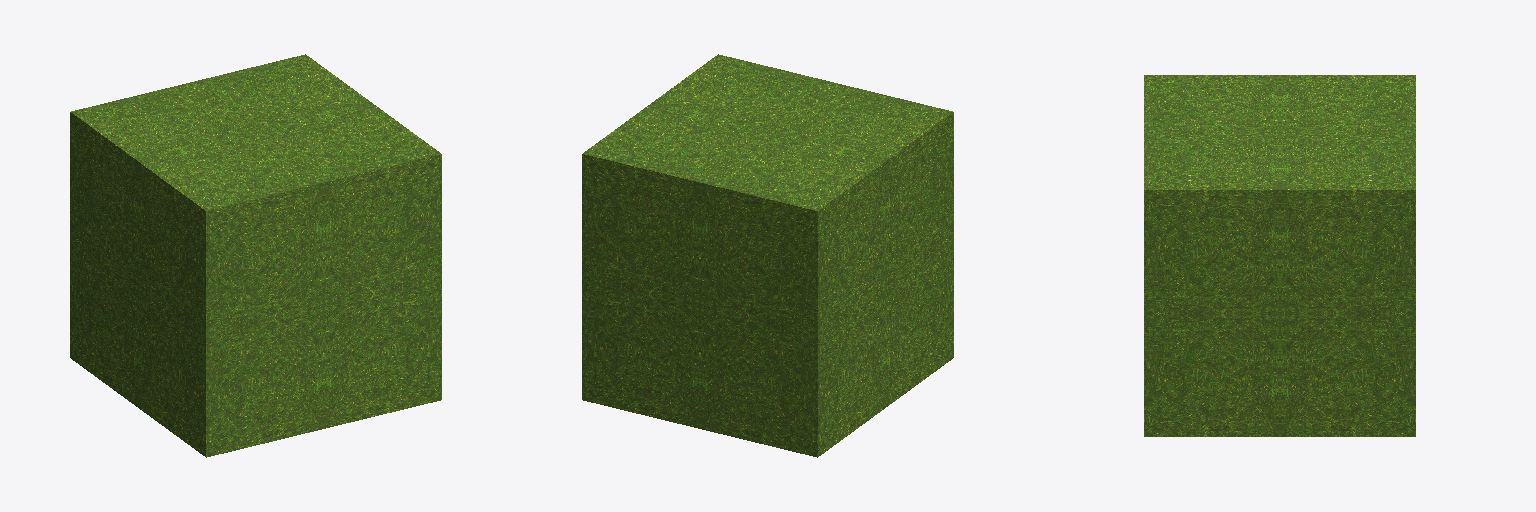
3 renders of one model, left to right at view 1: azimuth 30°, elevation 25°; view 2: azimuth 150°, elevation 25°; view 3: azimuth 270°, elevation 25°, orthographic.
Parts seen in each view (by area): view 1: Regroup00; view 2: Regroup00; view 3: Regroup00.
Boxes of the visible parts, box(x1,y1,x2,y2) form: Regroup00: box(70, 54, 441, 457); Regroup00: box(582, 54, 953, 457); Regroup00: box(1144, 75, 1415, 436).
Bounding box in the file's own units: 45.11 × 45.11 × 45.11.
1 materials, 1 textured.